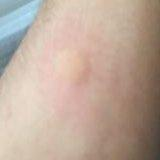Mosquito: (55, 48, 86, 84)
